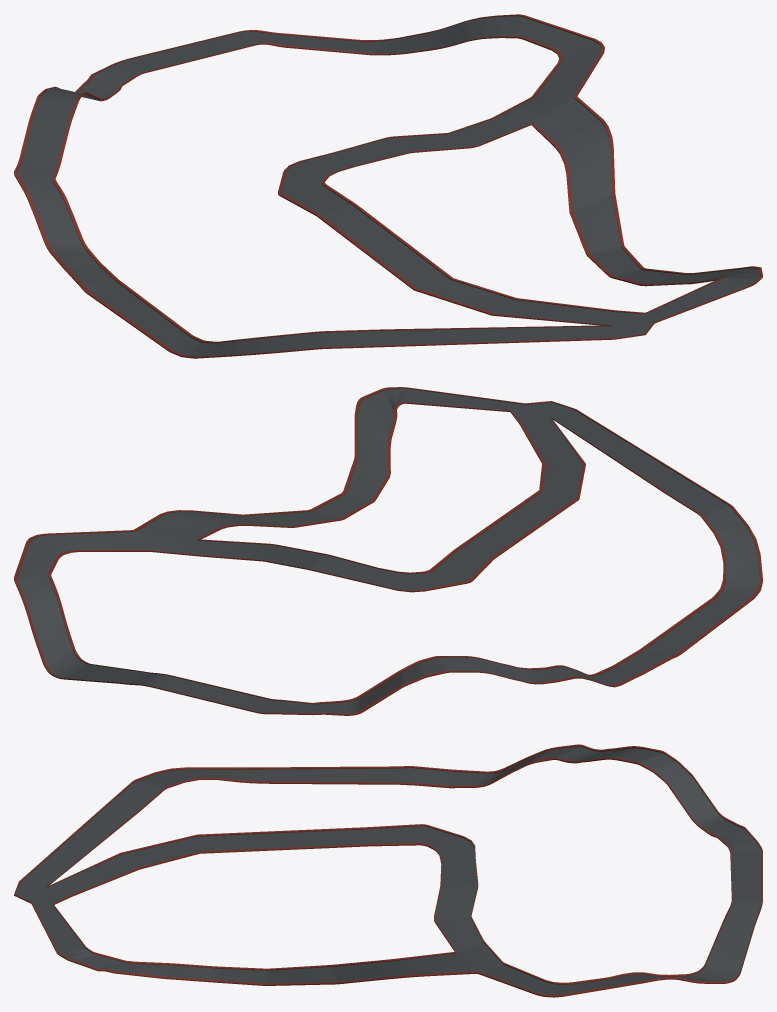
The model's file is Track3Lake.glb.
3 renders of one model, top to bottom at view 1: azimuth 30°, elevation 25°; view 2: azimuth 150°, elevation 25°; view 3: azimuth 270°, elevation 25°, orthographic. The views are drawn at different scales.
Parts seen in each view (by area): view 1: LakeTrack; view 2: LakeTrack; view 3: LakeTrack.
Part boxes in pixels (left/top/right/bottom): LakeTrack: left=14, top=14, right=762, bottom=358; LakeTrack: left=14, top=387, right=762, bottom=715; LakeTrack: left=14, top=744, right=762, bottom=997.
Bounding box in the file's own units: 5.54 × 0.7049 × 6.59.
